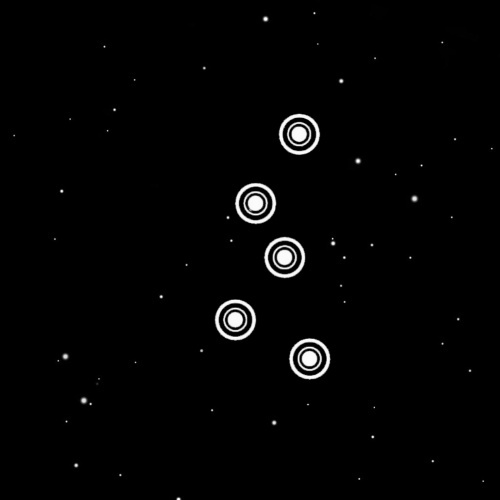cassiopeia: (194, 106, 351, 392)
